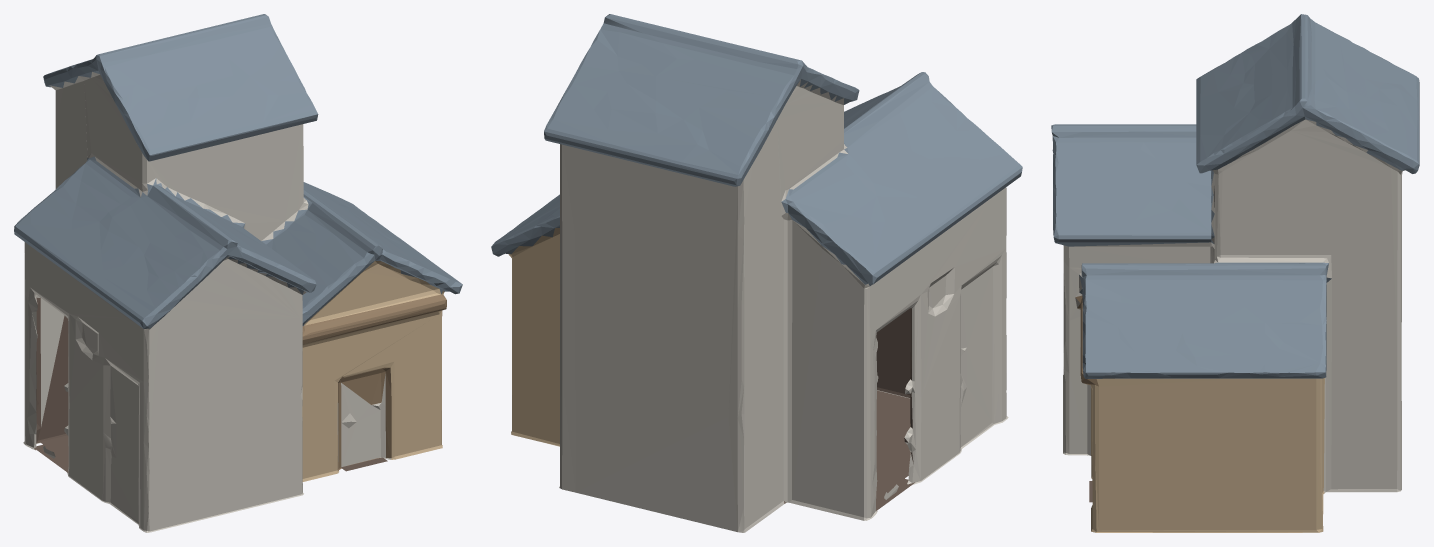
3 views of the same model, side by side, from view 1: azimuth 30°, elevation 25°; view 2: azimuth 150°, elevation 25°; view 3: azimuth 270°, elevation 25° (orthographic). The views are drawn at different scales.
Visible parts, largest first — view 1: geometry_0; view 2: geometry_0; view 3: geometry_0.
Part boxes in pixels (x1,y1,x2,y2): geometry_0: (14,14,462,532); geometry_0: (491,14,1022,532); geometry_0: (1051,14,1419,532).
Bounding box in the file's own units: 0.8803 × 0.9451 × 0.8.
